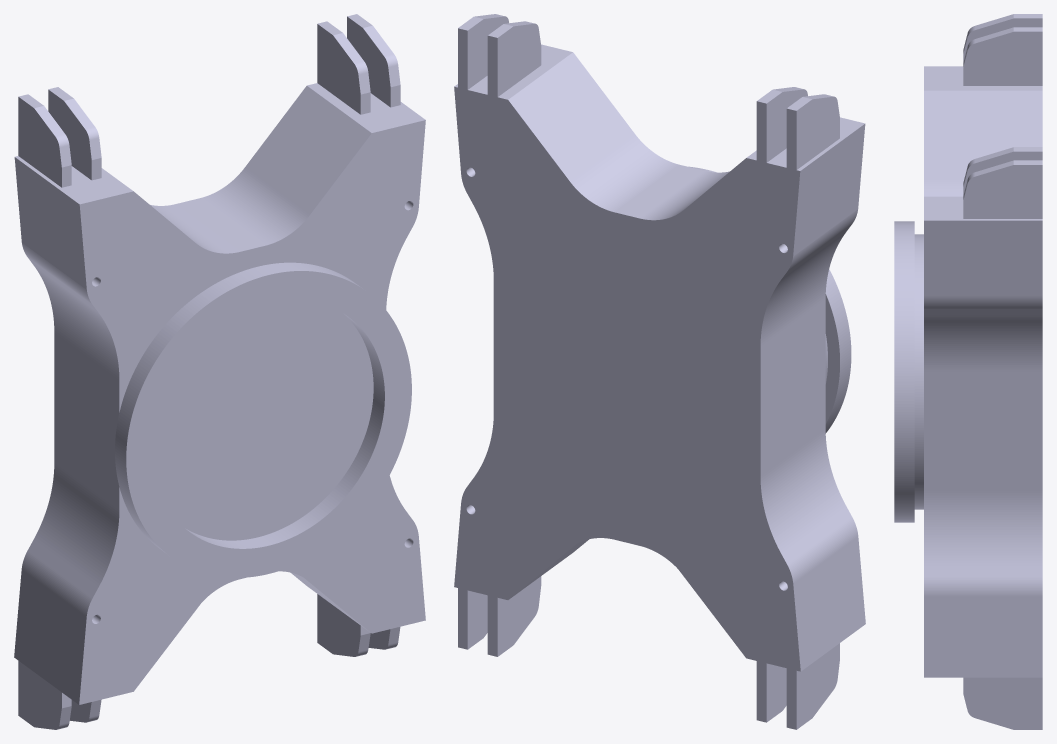
The model's file is CARBODY.obj.
3 renders of one model, left to right at view 1: azimuth 30°, elevation 25°; view 2: azimuth 150°, elevation 25°; view 3: azimuth 270°, elevation 25°, orthographic. The views are drawn at different scales.
Parts seen in each view (by area): view 1: HSC_1500HLX_CARBODY_WK_000_1-1500HLX_CARBODY_WK010 (Meshed), HSC_1500HLX_TTB_000_1-1500HLX_TTB (Meshed); view 2: HSC_1500HLX_CARBODY_WK_000_1-1500HLX_CARBODY_WK010 (Meshed), HSC_1500HLX_TTB_000_1-1500HLX_TTB (Meshed); view 3: HSC_1500HLX_CARBODY_WK_000_1-1500HLX_CARBODY_WK010 (Meshed), HSC_1500HLX_TTB_000_1-1500HLX_TTB (Meshed).
Part boxes in pixels (x1,y1,x2,y2): HSC_1500HLX_CARBODY_WK_000_1-1500HLX_CARBODY_WK010 (Meshed): (14,14,425,729); HSC_1500HLX_TTB_000_1-1500HLX_TTB (Meshed): (115,262,411,577); HSC_1500HLX_CARBODY_WK_000_1-1500HLX_CARBODY_WK010 (Meshed): (454,14,865,729); HSC_1500HLX_TTB_000_1-1500HLX_TTB (Meshed): (688,166,851,433); HSC_1500HLX_CARBODY_WK_000_1-1500HLX_CARBODY_WK010 (Meshed): (914,14,1042,729); HSC_1500HLX_TTB_000_1-1500HLX_TTB (Meshed): (894,221,914,522).
Bounding box in the file's own units: 2784 × 4750 × 1132.
